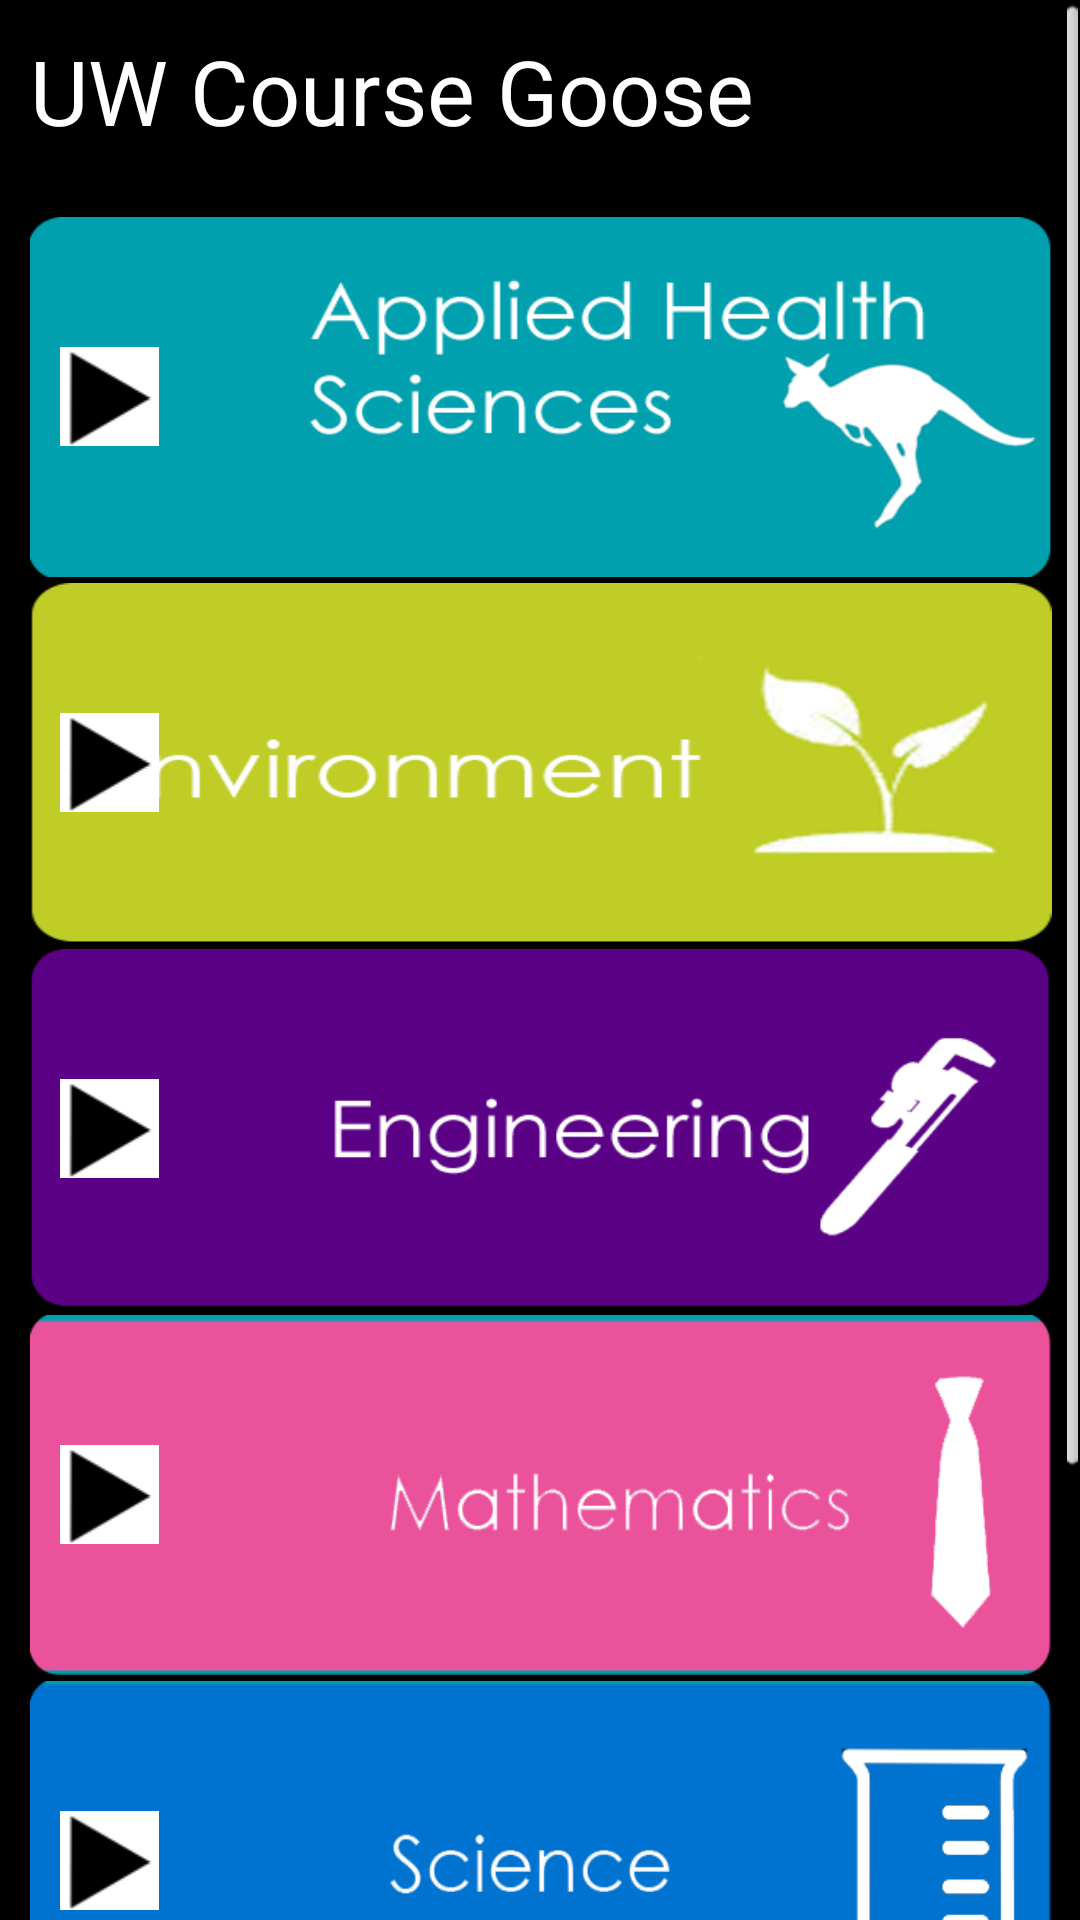

Where to tap for icons on this 1080px x 1920px app screen, as (x=x, y=y):
triangle right: (x=109, y=396), (x=109, y=762), (x=109, y=1128), (x=109, y=1494), (x=109, y=1860)
